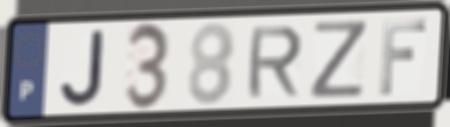3: (123, 18, 173, 114)
8: (185, 19, 239, 109)
F: (377, 17, 430, 98)
J: (58, 28, 107, 109)
R: (243, 23, 306, 101)
Z: (307, 18, 372, 102)
